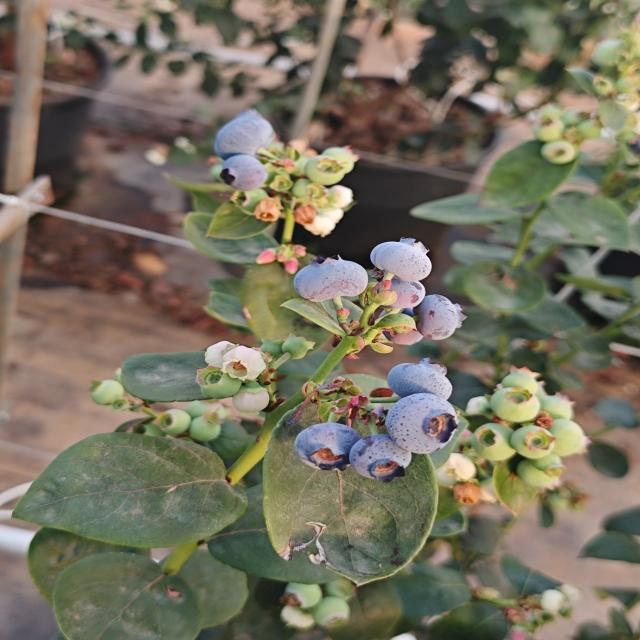ripe: (213, 108, 295, 170), (380, 398, 465, 452), (289, 419, 368, 471), (289, 258, 370, 305), (383, 357, 463, 403), (348, 432, 415, 482), (364, 239, 437, 279), (419, 287, 467, 342), (213, 152, 273, 195), (369, 275, 427, 311)
